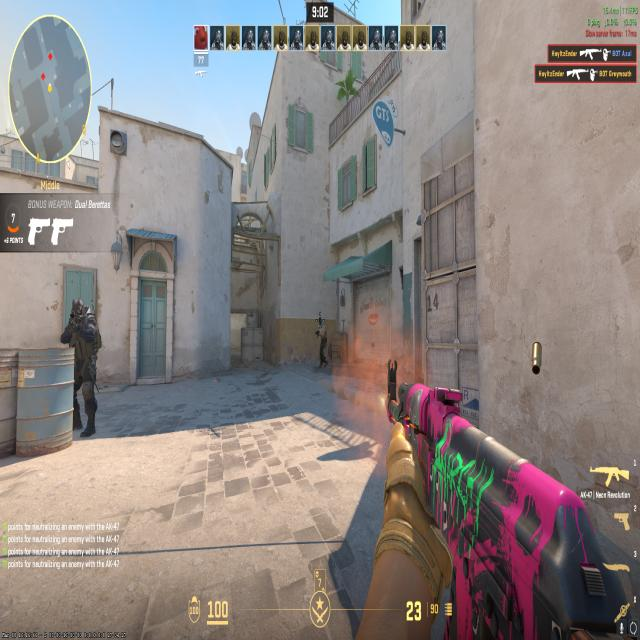ct: (60, 294, 102, 438)
t: (316, 314, 330, 370)
